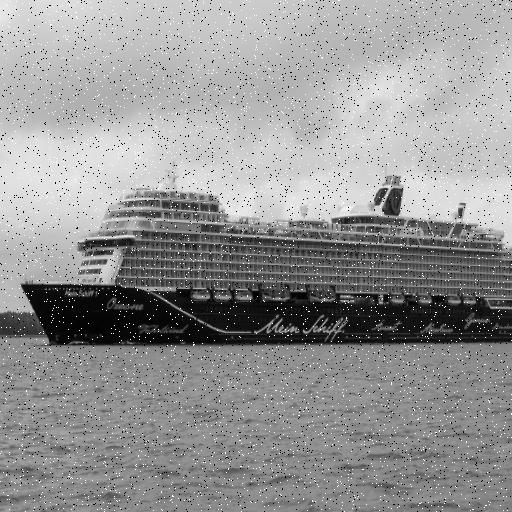cruises: (15, 161, 512, 345)
